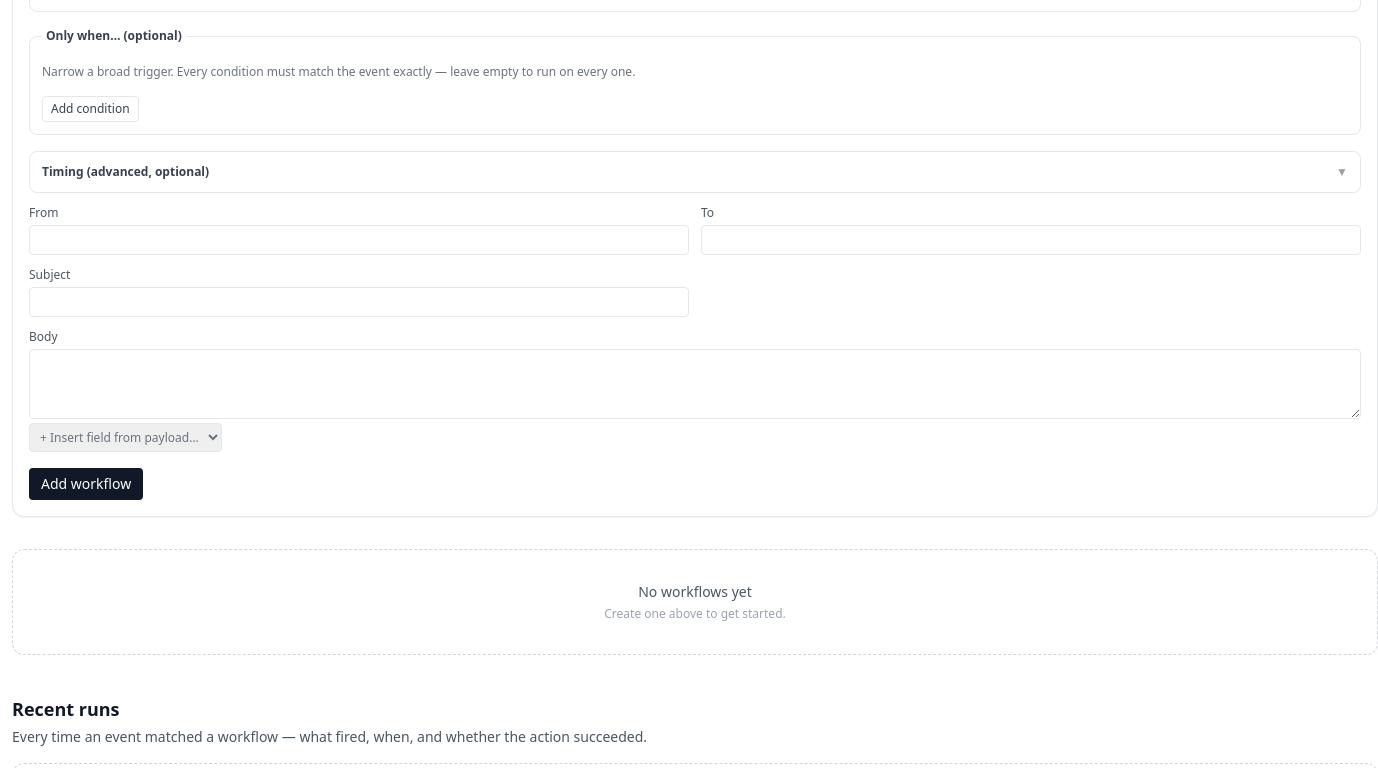
OrchestrationPage › offers the insert-field picker on a payload_template textarea field too (#609)
(page scrolled)
Step 1. Type "Contact: " into the text box labelled "Body" → [695, 384], box 29,349 -> 1361,419
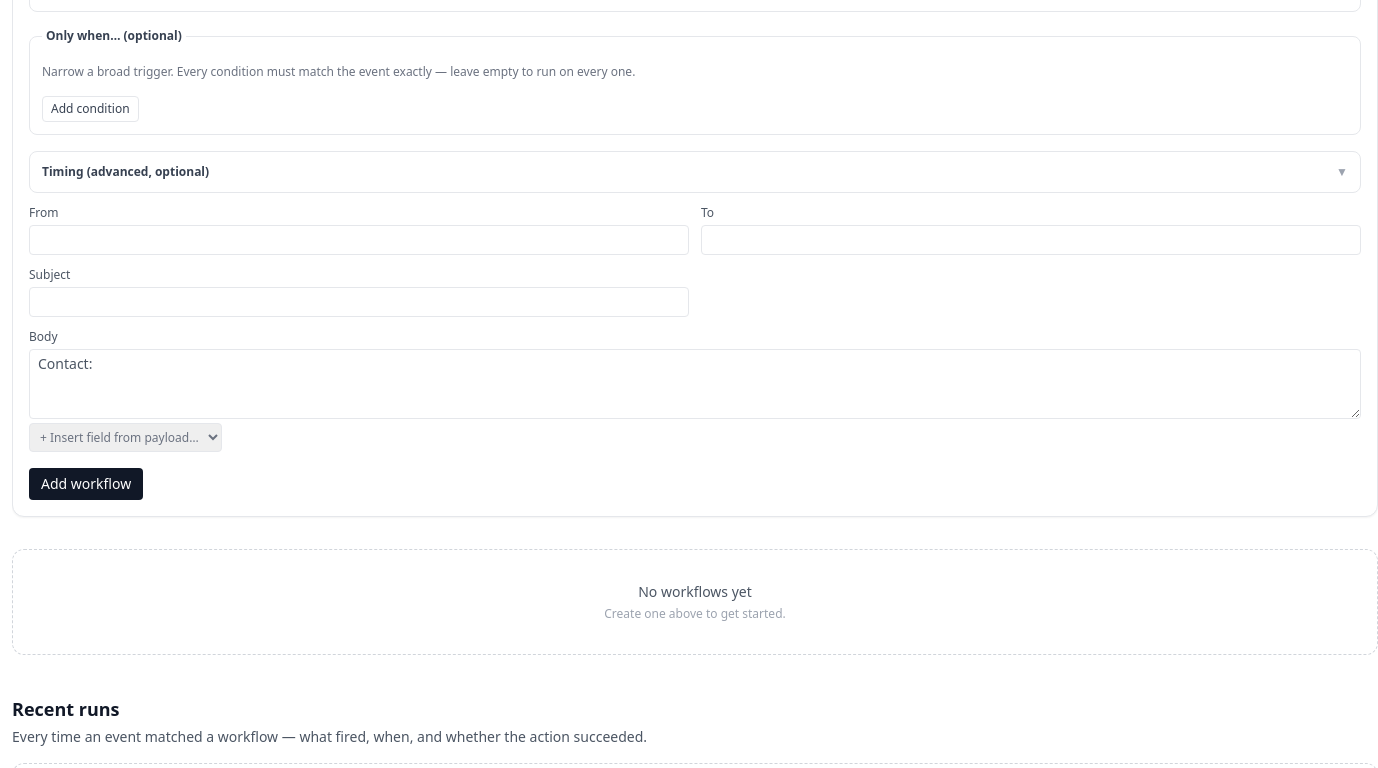
Step 2. Select "Status (status)" in the dropdown named "Insert a trigger field into Body" → [126, 438], box 29,423 -> 222,452
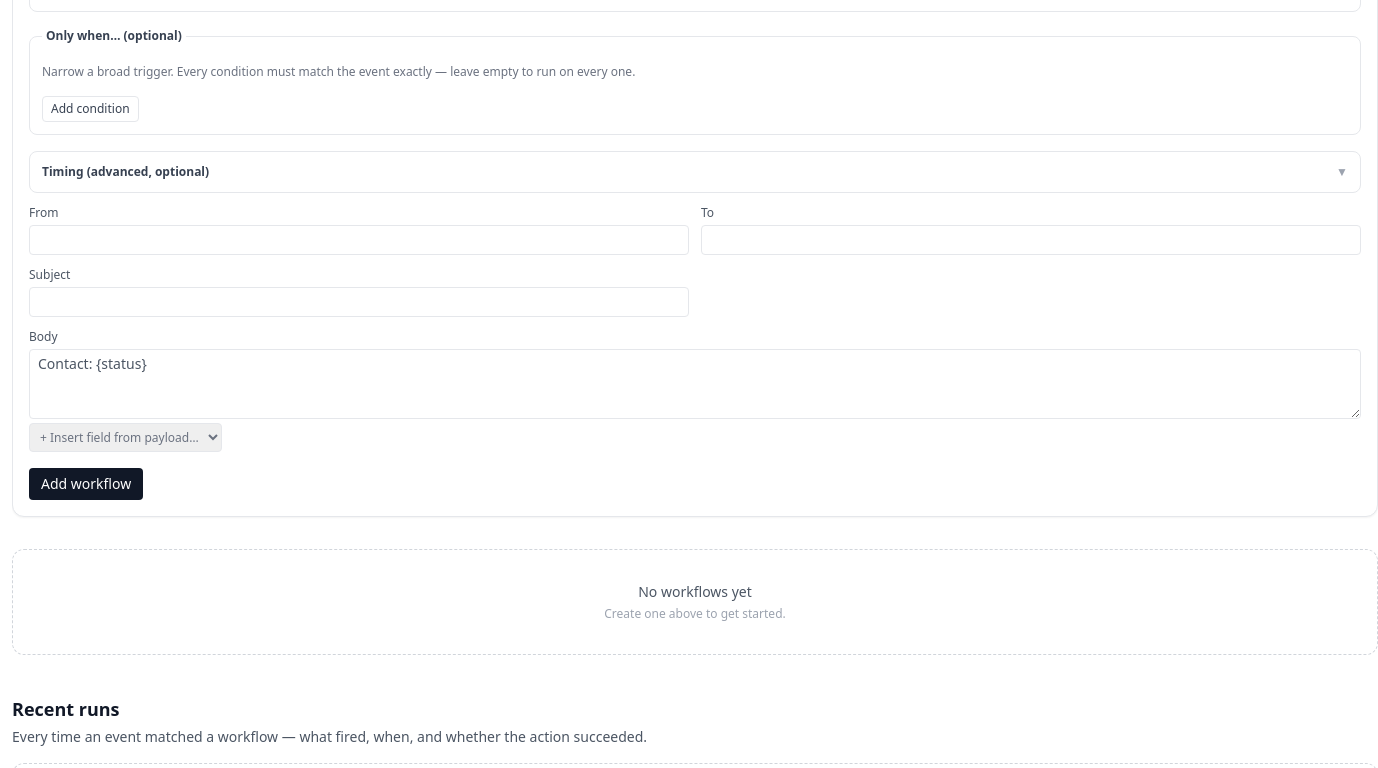
Check: the text box labelled "Body" holds "Contact: {status}", box 29,349 -> 1361,419
